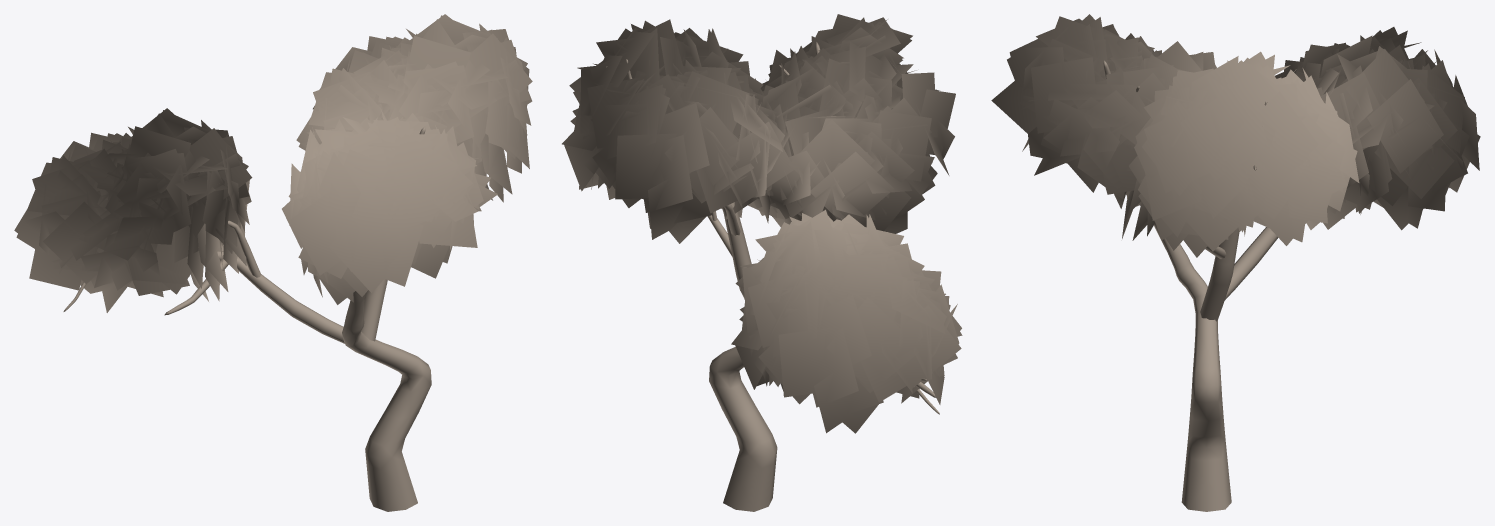
The model's file is MapleTree_2.glb.
3 renders of one model, left to right at view 1: azimuth 30°, elevation 25°; view 2: azimuth 150°, elevation 25°; view 3: azimuth 270°, elevation 25°, orthographic. The views are drawn at different scales.
Visible parts, largest first — view 1: MapleTree_Leaves, MapleTree_Bark; view 2: MapleTree_Leaves, MapleTree_Bark; view 3: MapleTree_Leaves, MapleTree_Bark.
Part boxes in pixels (bbox=[...]): MapleTree_Leaves: bbox=[14, 14, 532, 312]; MapleTree_Bark: bbox=[63, 126, 431, 511]; MapleTree_Leaves: bbox=[562, 14, 962, 433]; MapleTree_Bark: bbox=[606, 42, 939, 511]; MapleTree_Leaves: bbox=[991, 14, 1480, 257]; MapleTree_Bark: bbox=[1103, 60, 1278, 511].
Bounding box in the file's own units: 6.7 × 6.71 × 6.24.
